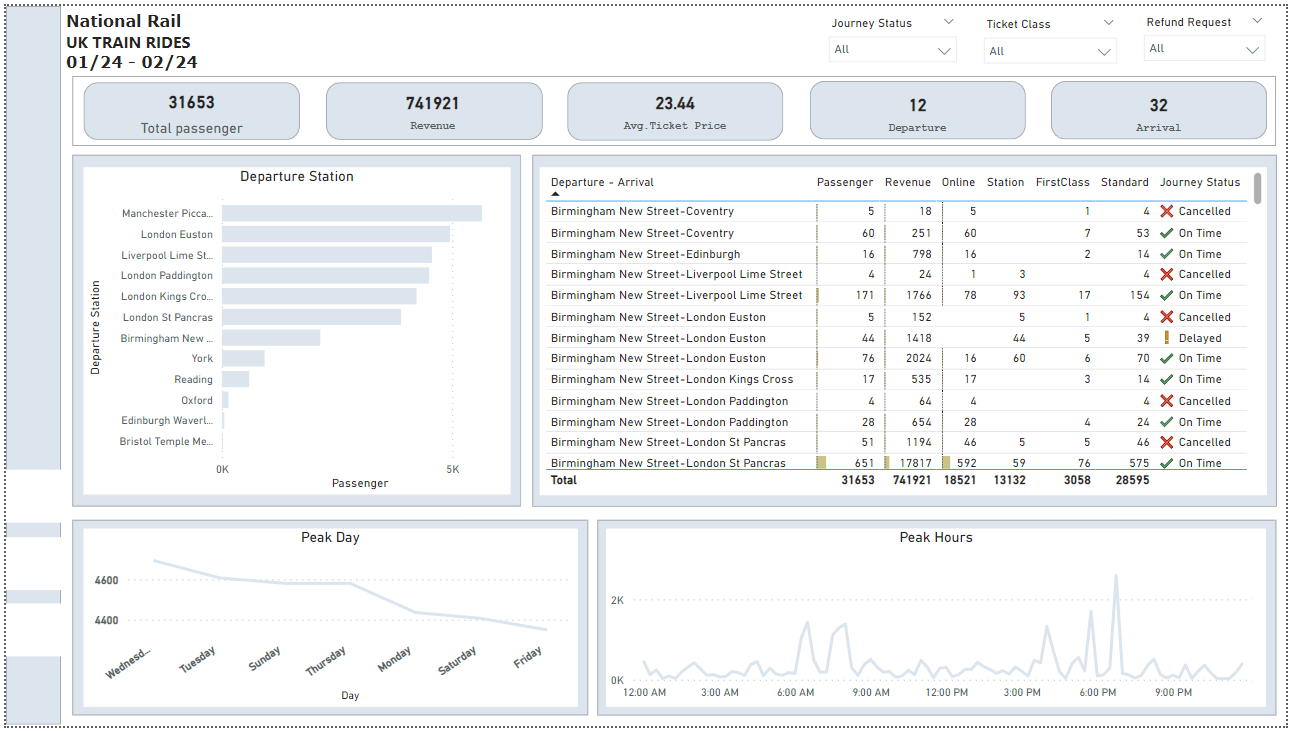

What the dashboard file says about the page in this screenshot:
{"tool":"powerbi","page":{"name":"Mainpage","canvas":[1280,720],"ordinal":0},"visuals":[{"type":"shape","box":[0,0,55,718.8],"z":0},{"type":"slicer","fields":{"Values":["railway.Journey Status"]},"box":[812.8,5.5,148.3,56.7],"z":0,"group":"g2"},{"type":"shape","box":[77.4,77,216.5,57.8],"z":0,"group":"g1"},{"type":"slicer","fields":{"Values":["railway.Refund Request"]},"box":[1127.8,3.8,141.7,57.5],"z":1000,"group":"g2"},{"type":"shape","box":[1044.6,75.4,216.2,58.5],"z":1000,"group":"g1"},{"type":"shape","box":[66,513.6,516,195.7],"z":1000},{"type":"slicer","fields":{"Values":["railway.Ticket Class"]},"box":[967.8,6.3,153.3,55],"z":2000,"group":"g2"},{"type":"shape","box":[803.1,75.9,216.2,58.5],"z":2000,"group":"g1"},{"type":"shape","box":[525.8,149.2,744.7,352.2],"z":2000},{"type":"shape","box":[561.6,76.5,216.2,58.5],"z":3000,"group":"g1"},{"type":"shape","box":[65.9,148.6,449.1,351.8],"z":3000},{"type":"group","id":"g1","title":"Group 1","box":[77.4,75.4,1183.4,59.5],"z":4000},{"type":"shape","box":[319.3,76.9,216.9,57.7],"z":4000,"group":"g1"},{"type":"shape","box":[66.2,70,1203.8,70],"z":5000},{"type":"card","fields":{"Values":["KPI Metrics.Total passenger"]},"box":[77.3,76.7,216.7,58.7],"z":6000},{"type":"card","fields":{"Values":["KPI Metrics.Total Revenue"]},"box":[319.3,75.3,216.7,58.7],"z":7000},{"type":"card","fields":{"Values":["KPI Metrics.Avg_ticket_price"]},"box":[561.3,75.3,216,58.7],"z":8000},{"type":"card","fields":{"Values":["KPI Metrics.Destination"]},"box":[803.3,76,216,58.7],"z":9000},{"type":"card","fields":{"Values":["KPI Metrics.Arrival"]},"box":[1044.7,76,216,58.7],"z":10000},{"type":"textbox","box":[55,0,260,70],"z":11000},{"type":"tableEx","fields":{"Values":["railway.Source To Destination","KPI Metrics.Total passenger","KPI Metrics.Revenue","Purchase Type.Online","Purchase Type.Station","Ticket_Class .FirstClass","Ticket_Class .Standard","railway.Journey Status"]},"box":[533.2,161.4,727.6,327.7],"z":12000},{"type":"clusteredBarChart","title":"Departure Station","fields":{"Category":["railway.Departure Station"],"Y":["KPI Metrics.Total passenger average per Departure Station"]},"box":[76.9,161.2,426.9,327.5],"z":13000},{"type":"lineChart","title":"Peak Day","fields":{"Y":["KPI Metrics.Total passenger"],"Category":["railway.DayOfJourney"]},"box":[77,522.1,494,178.5],"z":14000},{"type":"shape","box":[591.7,513.3,679.2,195.8],"z":15000},{"type":"lineChart","title":"Peak Hours","fields":{"Category":["railway.Departure Time"],"Y":["KPI Metrics.Total passenger"]},"box":[600.4,522.1,660.3,178.5],"z":16000},{"type":"group","id":"g2","title":"Group 2","box":[812.8,3.8,456.7,58.3],"z":17000},{"type":"actionButton","box":[0,463.5,55,52.6],"z":18000},{"type":"actionButton","box":[0,530.7,55,52.6],"z":19000},{"type":"actionButton","box":[0,598,55,52.6],"z":20000}]}

Visuals, with their boxes in screenshot pixels (x1, y1, x2, y2), scaled from the page's 1280x720 canvas onto the 1293x731 screenshot:
shape: {"left": 0, "top": 0, "right": 56, "bottom": 730}
slicer - railway.Journey Status: {"left": 821, "top": 6, "right": 971, "bottom": 63}
shape: {"left": 78, "top": 78, "right": 297, "bottom": 137}
slicer - railway.Refund Request: {"left": 1139, "top": 4, "right": 1282, "bottom": 62}
shape: {"left": 1055, "top": 77, "right": 1274, "bottom": 136}
shape: {"left": 67, "top": 521, "right": 588, "bottom": 720}
slicer - railway.Ticket Class: {"left": 978, "top": 6, "right": 1132, "bottom": 62}
shape: {"left": 811, "top": 77, "right": 1030, "bottom": 136}
shape: {"left": 531, "top": 151, "right": 1283, "bottom": 509}
shape: {"left": 567, "top": 78, "right": 786, "bottom": 137}
shape: {"left": 67, "top": 151, "right": 520, "bottom": 508}
"Group 1" group: {"left": 78, "top": 77, "right": 1274, "bottom": 137}
shape: {"left": 323, "top": 78, "right": 542, "bottom": 137}
shape: {"left": 67, "top": 71, "right": 1283, "bottom": 142}
card - KPI Metrics.Total passenger: {"left": 78, "top": 78, "right": 297, "bottom": 137}
card - KPI Metrics.Total Revenue: {"left": 323, "top": 76, "right": 541, "bottom": 136}
card - KPI Metrics.Avg_ticket_price: {"left": 567, "top": 76, "right": 785, "bottom": 136}
card - KPI Metrics.Destination: {"left": 811, "top": 77, "right": 1030, "bottom": 137}
card - KPI Metrics.Arrival: {"left": 1055, "top": 77, "right": 1274, "bottom": 137}
textbox: {"left": 56, "top": 0, "right": 318, "bottom": 71}
tableEx - railway.Source To Destination x KPI Metrics.Total passenger: {"left": 539, "top": 164, "right": 1274, "bottom": 497}
"Departure Station" clusteredBarChart: {"left": 78, "top": 164, "right": 509, "bottom": 496}
"Peak Day" lineChart: {"left": 78, "top": 530, "right": 577, "bottom": 711}
shape: {"left": 598, "top": 521, "right": 1284, "bottom": 720}
"Peak Hours" lineChart: {"left": 606, "top": 530, "right": 1274, "bottom": 711}
"Group 2" group: {"left": 821, "top": 4, "right": 1282, "bottom": 63}
actionButton: {"left": 0, "top": 471, "right": 56, "bottom": 524}
actionButton: {"left": 0, "top": 539, "right": 56, "bottom": 592}
actionButton: {"left": 0, "top": 607, "right": 56, "bottom": 661}
